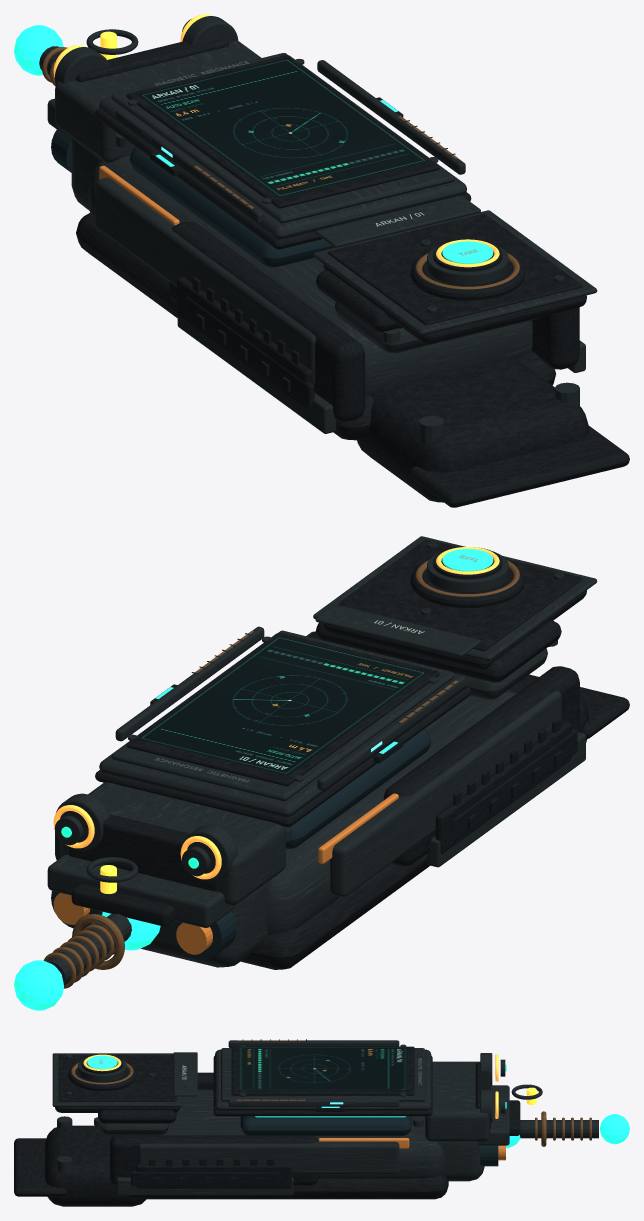
The model's file is arkan-v112-draco.glb.
3 renders of one model, top to bottom at view 1: azimuth 30°, elevation 25°; view 2: azimuth 150°, elevation 25°; view 3: azimuth 270°, elevation 25°, orthographic. The views are drawn at different scales.
Visible parts, largest first — view 1: GZ110_ORIGINAL_V37_CORE_RETAINED, GZ110_MFD_SCREEN, GZ112_AR_ControlInsert, GZ110_Side_Alloy_Reinforcement, GZ111_Heel_ProtectiveGasket, GZ110_Head_Reinforced_Base, GZ110_CNC_Inner_GraphiteRim, GZ110_CNC_Display_Titanium_Rim, GZ110_CNC_MFD_Outer_Gasket, GZ112_AR_PanelRim, GZ112_AR_EngravedNameplate, GZ110_Side_Elastic_Bumper (+13 smaller); view 2: GZ110_ORIGINAL_V37_CORE_RETAINED, GZ110_MFD_SCREEN, GZ110_Side_Alloy_Reinforcement, GZ112_AR_ControlInsert, GZ110_Head_Reinforced_Base, GZ110_CNC_Inner_GraphiteRim, GZ111_Emitter_BottomArmature, GZ110_Head_Insulating_Bridge, GZ110_CNC_Display_Titanium_Rim, GZ110_CNC_MFD_Outer_Gasket, GZ110_PalmSwitch_RubberPad, GZ110_CNC_Sealed_Display_Gasket (+18 smaller); view 3: GZ110_ORIGINAL_V37_CORE_RETAINED, GZ110_MFD_SCREEN, GZ110_Side_Alloy_Reinforcement.001, GZ110_Head_Reinforced_Base, GZ112_AR_ControlInsert, GZ110_CNC_Inner_GraphiteRim, GZ110_Side_Elastic_Bumper.001, GZ111_Heel_ProtectiveGasket, GZ111_Bumper_RecessedRubber.001, GZ110_CNC_MFD_Outer_Gasket, GZ110_CNC_Sealed_Display_Gasket, GZ110_CNC_Display_Titanium_Rim (+17 smaller).
Boxes of the visible parts, x1,y1,x2,y2 form: GZ110_ORIGINAL_V37_CORE_RETAINED: (14, 25, 588, 502); GZ110_MFD_SCREEN: (137, 57, 428, 197); GZ112_AR_ControlInsert: (327, 213, 582, 325); GZ110_Side_Alloy_Reinforcement: (95, 177, 315, 384); GZ111_Heel_ProtectiveGasket: (409, 426, 629, 507); GZ110_Head_Reinforced_Base: (55, 41, 261, 162); GZ110_CNC_Inner_GraphiteRim: (111, 53, 454, 223); GZ110_CNC_Display_Titanium_Rim: (99, 55, 466, 239); GZ110_CNC_MFD_Outer_Gasket: (126, 55, 439, 208); GZ112_AR_PanelRim: (313, 210, 597, 335); GZ112_AR_EngravedNameplate: (315, 195, 480, 247); GZ110_Side_Elastic_Bumper: (177, 277, 312, 409); GZ110_ORIGINAL_V37_CORE_RETAINED: (14, 631, 588, 1010); GZ110_MFD_SCREEN: (137, 635, 428, 775); GZ110_Side_Alloy_Reinforcement: (330, 690, 561, 896); GZ112_AR_ControlInsert: (337, 539, 582, 651); GZ110_Head_Reinforced_Base: (55, 782, 285, 905); GZ110_CNC_Inner_GraphiteRim: (111, 630, 454, 801); GZ111_Emitter_BottomArmature: (47, 855, 234, 927); GZ110_Head_Insulating_Bridge: (69, 814, 217, 891); GZ110_CNC_Display_Titanium_Rim: (99, 633, 466, 816); GZ110_CNC_MFD_Outer_Gasket: (126, 633, 439, 786); GZ110_PalmSwitch_RubberPad: (316, 620, 561, 682); GZ110_CNC_Sealed_Display_Gasket: (95, 686, 471, 827); GZ110_ORIGINAL_V37_CORE_RETAINED: (45, 1072, 629, 1206); GZ110_MFD_SCREEN: (238, 1046, 407, 1090); GZ110_Side_Alloy_Reinforcement.001: (138, 1141, 399, 1174); GZ110_Head_Reinforced_Base: (425, 1061, 490, 1141); GZ112_AR_ControlInsert: (58, 1054, 176, 1101); GZ110_CNC_Inner_GraphiteRim: (221, 1048, 425, 1101); GZ110_Side_Elastic_Bumper.001: (136, 1164, 291, 1188); GZ111_Heel_ProtectiveGasket: (14, 1138, 66, 1196); GZ111_Bumper_RecessedRubber.001: (131, 1171, 278, 1185); GZ110_CNC_MFD_Outer_Gasket: (231, 1046, 414, 1095); GZ110_CNC_Sealed_Display_Gasket: (213, 1056, 432, 1116); GZ110_CNC_Display_Titanium_Rim: (215, 1049, 431, 1110).
Bounding box in the file's own units: 0.1255 × 0.0921 × 0.4075.
28 materials, 18 textured.
